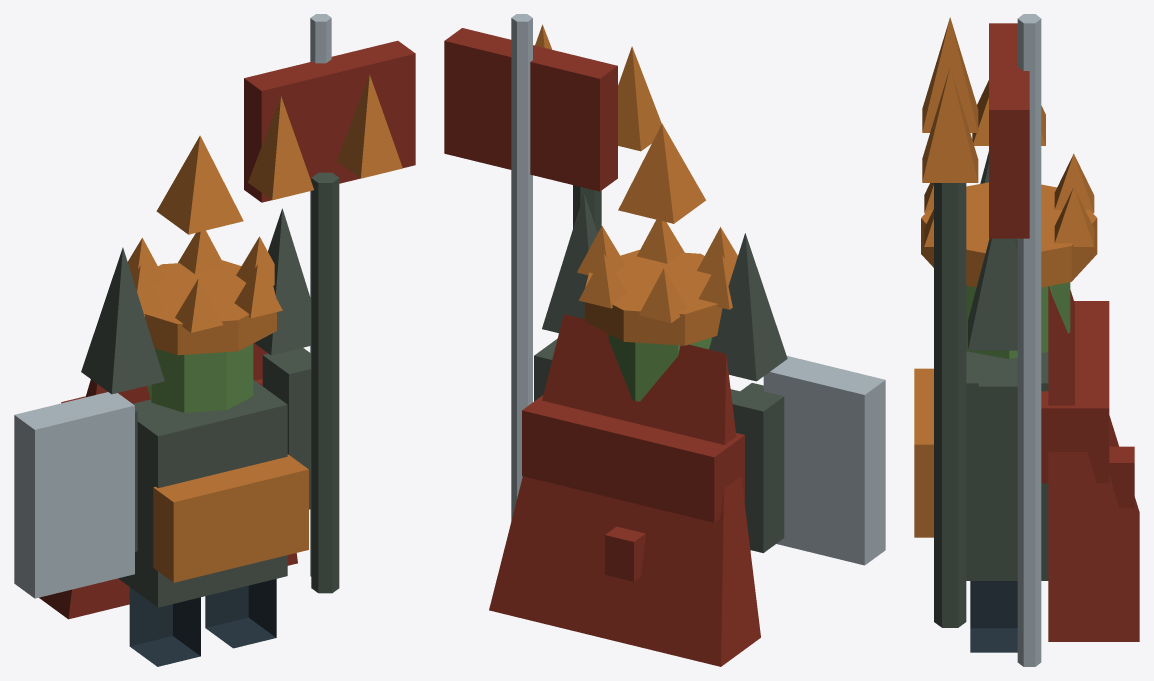
File: converter.obj
The picture shows the model from 3 angles, left to right: view 1: azimuth 30°, elevation 25°; view 2: azimuth 150°, elevation 25°; view 3: azimuth 270°, elevation 25°; orthographic projection. The views are drawn at different scales.
Visible parts, largest first — view 1: hero; view 2: hero; view 3: hero.
Boxes of the visible parts, x1,y1,x2,y2 form: hero: (14, 14, 415, 666); hero: (444, 14, 885, 666); hero: (914, 14, 1139, 666).
Size of the model in its own units: 1.81 by 2.52 by 0.7648.
